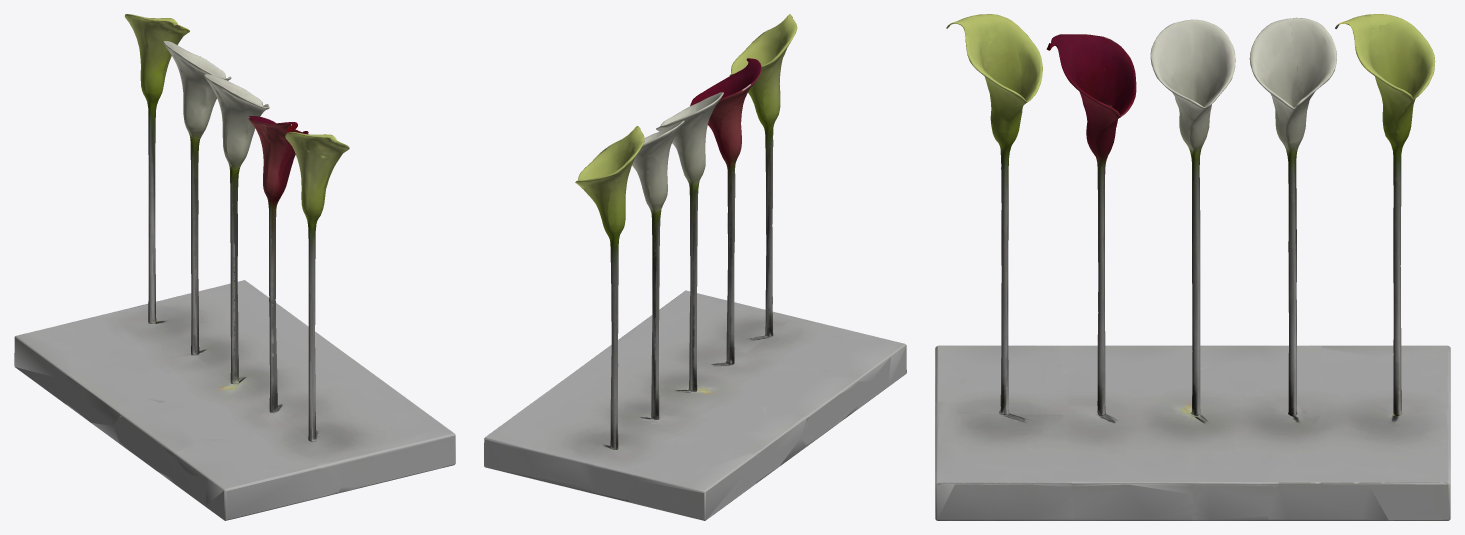
Rendered from cicex1-opt-v8.glb.
The picture shows the model from 3 angles, left to right: view 1: azimuth 30°, elevation 25°; view 2: azimuth 150°, elevation 25°; view 3: azimuth 270°, elevation 25°; orthographic projection. The views are drawn at different scales.
Visible parts, largest first — view 1: cicex; view 2: cicex; view 3: cicex.
Part boxes in pixels (left/top/right/bottom): cicex: left=14, top=14, right=455, bottom=520; cicex: left=484, top=14, right=906, bottom=520; cicex: left=935, top=14, right=1450, bottom=520.
Size of the model in its own units: 0.6328 by 0.9205 by 0.9999.
Materials: 1 (1 with a texture image).
